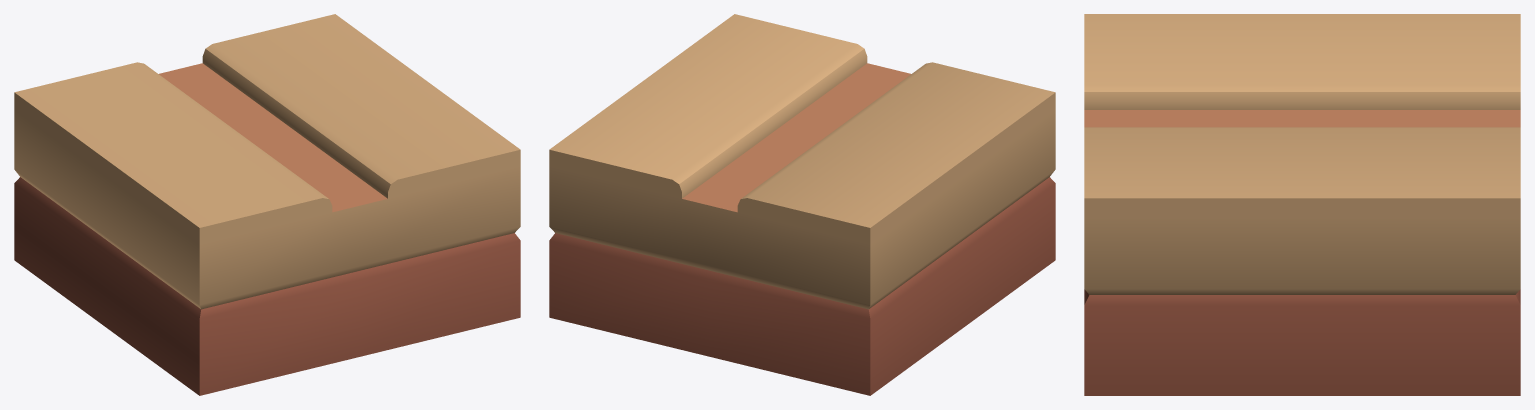
Rendered from square_sand_roadB_detail.glb.
3 renders of one model, left to right at view 1: azimuth 30°, elevation 25°; view 2: azimuth 150°, elevation 25°; view 3: azimuth 270°, elevation 25°, orthographic. The views are drawn at different scales.
Parts seen in each view (by area): view 1: square_sand_roadB_detail; view 2: square_sand_roadB_detail; view 3: square_sand_roadB_detail.
Boxes of the visible parts, left/top/right/bottom form: square_sand_roadB_detail: left=14, top=14, right=520, bottom=395; square_sand_roadB_detail: left=549, top=14, right=1055, bottom=395; square_sand_roadB_detail: left=1084, top=14, right=1520, bottom=395.
Size of the model in its own units: 2 by 1 by 2.
